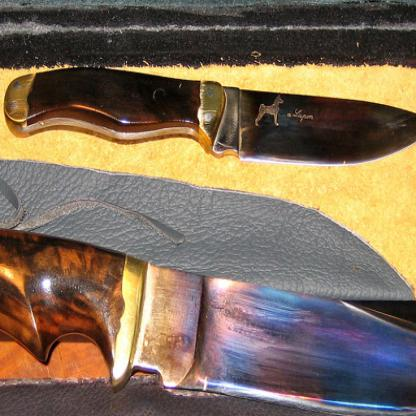knife: (0, 220, 415, 415), (2, 62, 415, 165)
